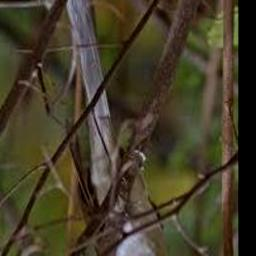Cuckoo: (63, 0, 191, 256)
